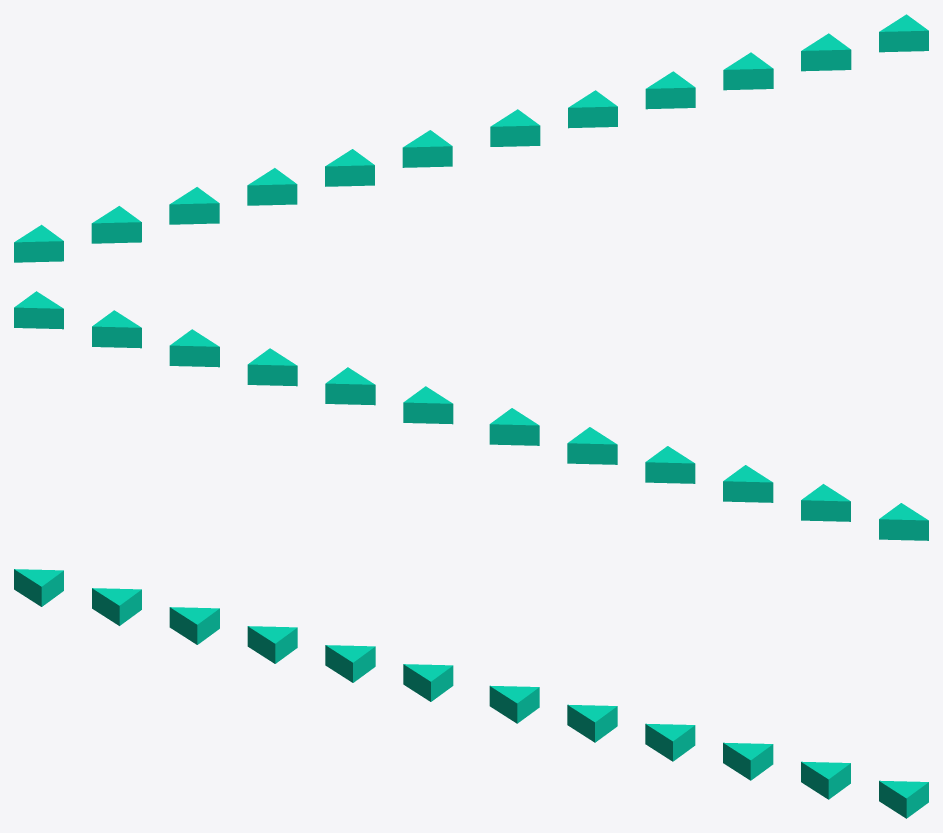
The model's file is BIGBIGARROW.fbx.
3 renders of one model, top to bottom at view 1: azimuth 30°, elevation 25°; view 2: azimuth 150°, elevation 25°; view 3: azimuth 330°, elevation 25°, orthographic.
Parts seen in each view (by area): view 1: Layer 04; view 2: Layer 04; view 3: Layer 04.
Boxes of the visible parts, x1=… form: Layer 04: x1=14, y1=14, x2=928, y2=262; Layer 04: x1=14, y1=291, x2=928, y2=540; Layer 04: x1=14, y1=569, x2=928, y2=818.
Bounding box in the file's own units: 3979 × 85.63 × 176.
